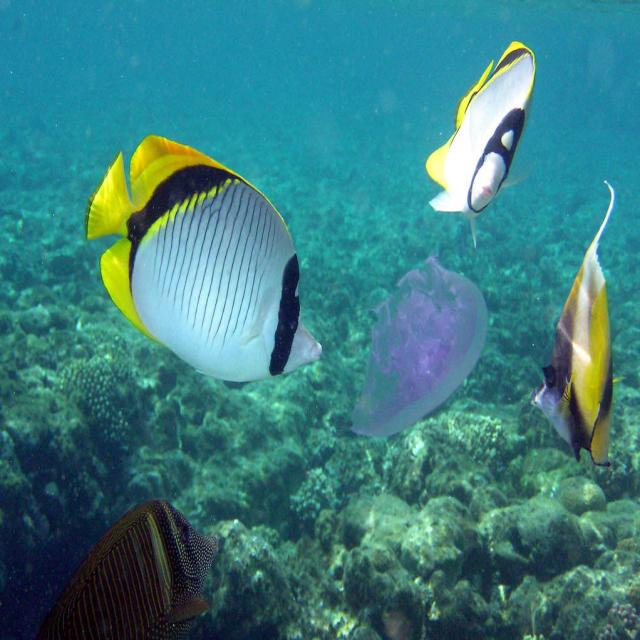ButterflyFish: (84, 134, 323, 384), (529, 248, 614, 470), (425, 42, 536, 211)
